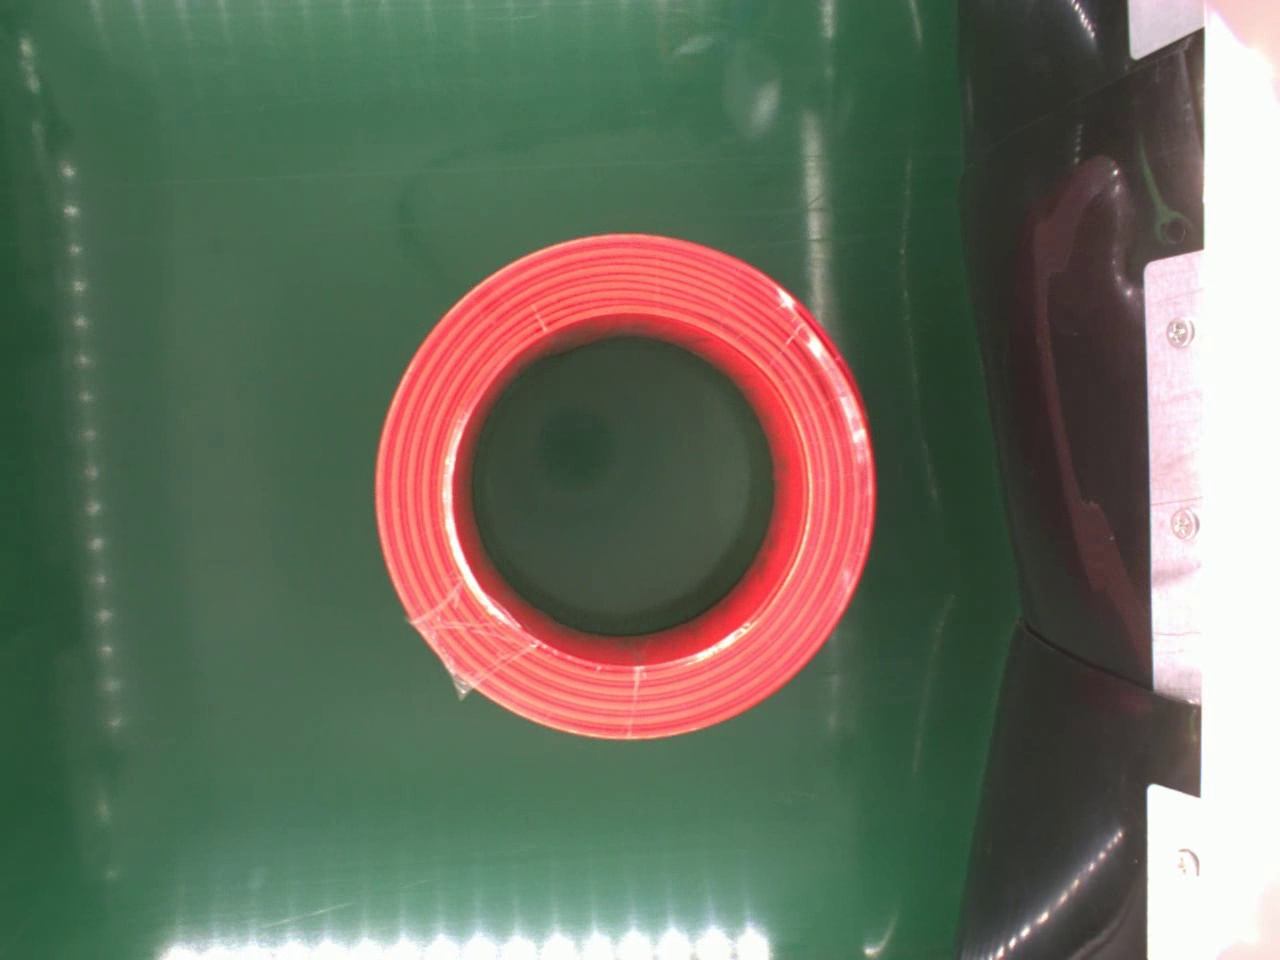red: (372, 229, 875, 743)
